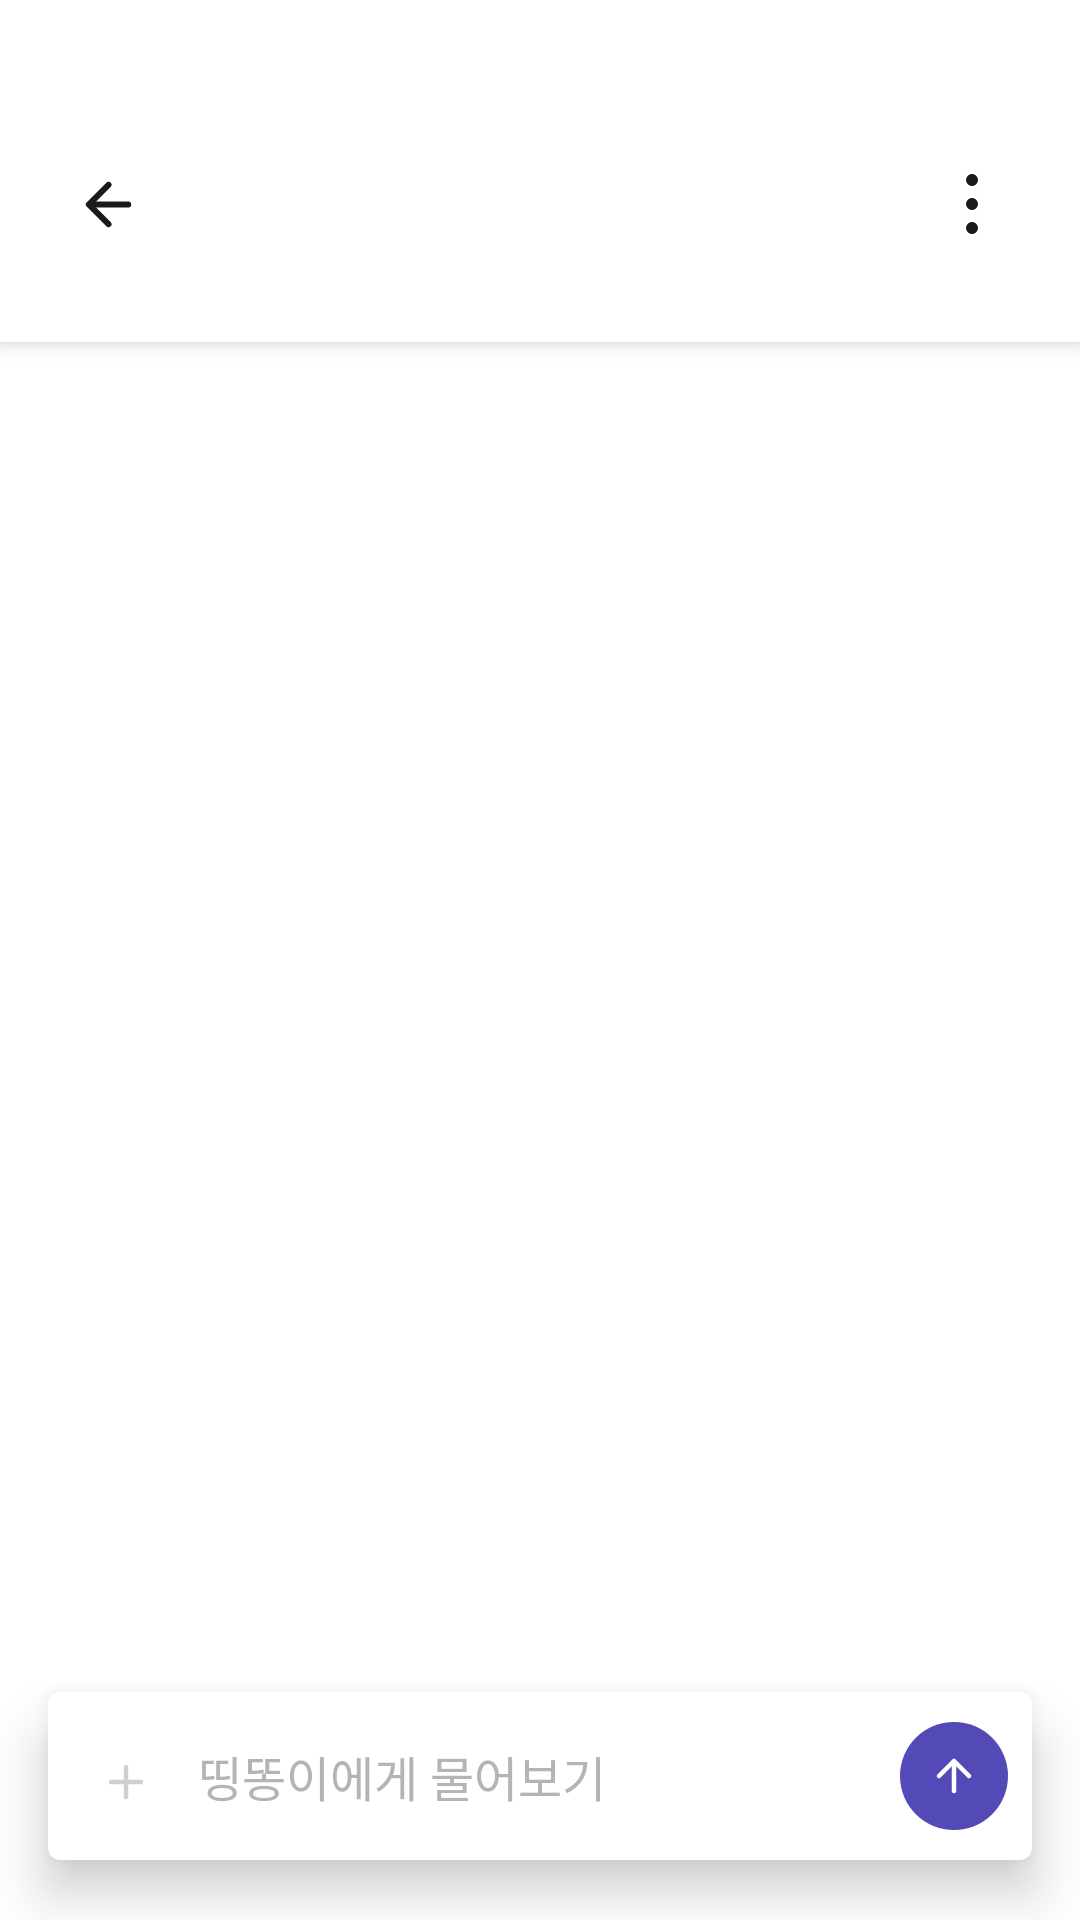

Icon click points for this 1080x1920 phone screenshot, format (x=x, y=y):
arrow left: (x=108, y=204)
chat arrow up: (x=954, y=1776)
plus: (x=126, y=1782)
three dot menu: (x=972, y=204)
